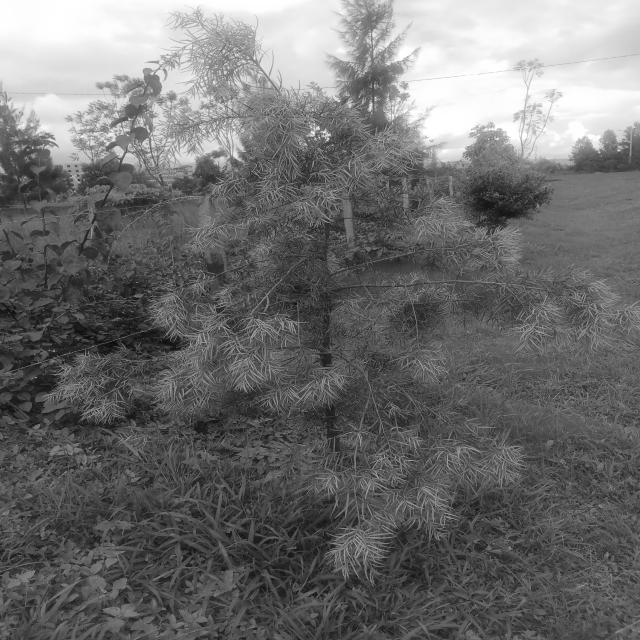Podocarpus falcatus: (137, 48, 640, 589)
